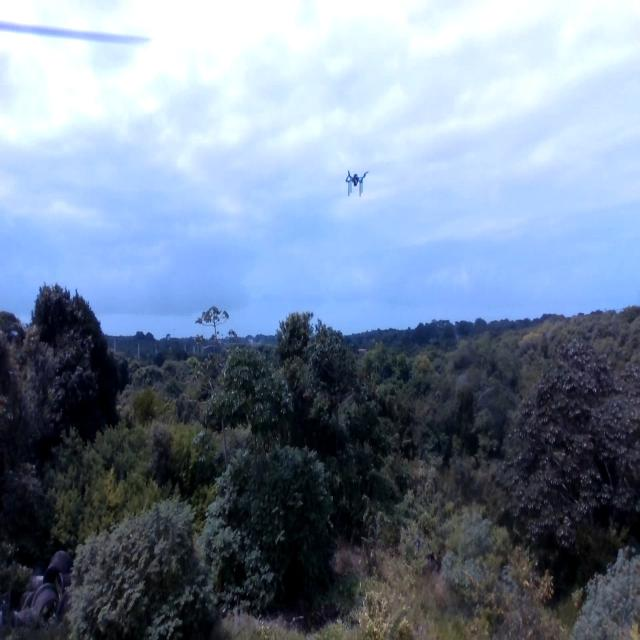-uav-: (338, 163, 374, 206)
